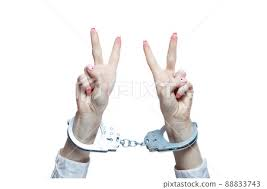peace_sign: (138, 26, 195, 120), (74, 24, 124, 114)
